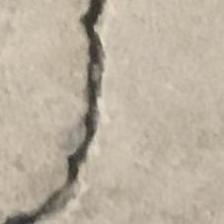Crack: (26, 0, 138, 224)
